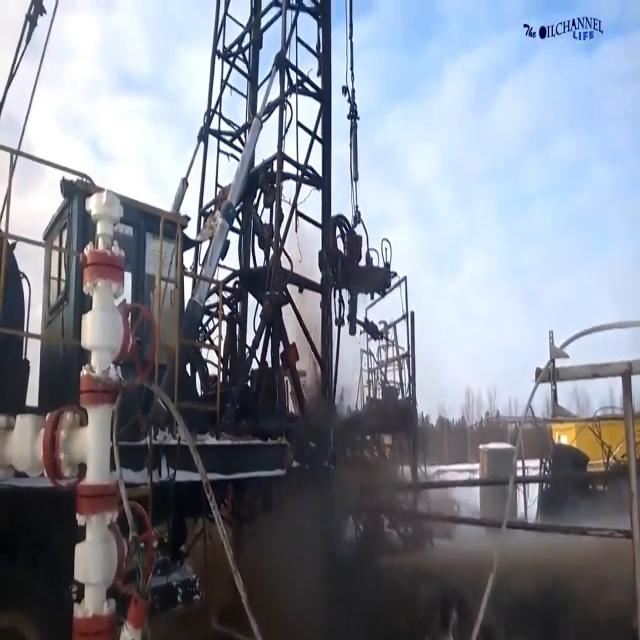spillage: (381, 518, 640, 597)
